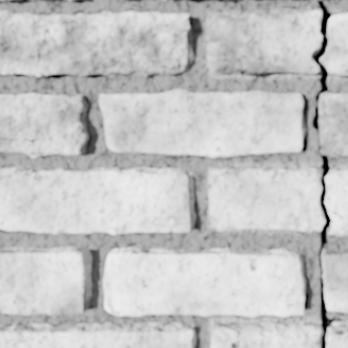brick: (104, 247, 304, 315), (99, 89, 304, 155), (0, 168, 194, 233), (0, 11, 194, 76), (0, 247, 91, 313), (0, 92, 87, 156), (0, 323, 195, 347), (319, 92, 347, 155), (322, 249, 347, 311), (0, 166, 33, 174)
broken_brick: (209, 165, 321, 232), (206, 10, 320, 75), (210, 321, 319, 347), (321, 12, 347, 77), (327, 169, 347, 237), (207, 165, 256, 185), (328, 325, 347, 347)
crack: (308, 0, 346, 347), (207, 166, 261, 203), (0, 168, 41, 180), (0, 136, 41, 142), (206, 42, 209, 63)
